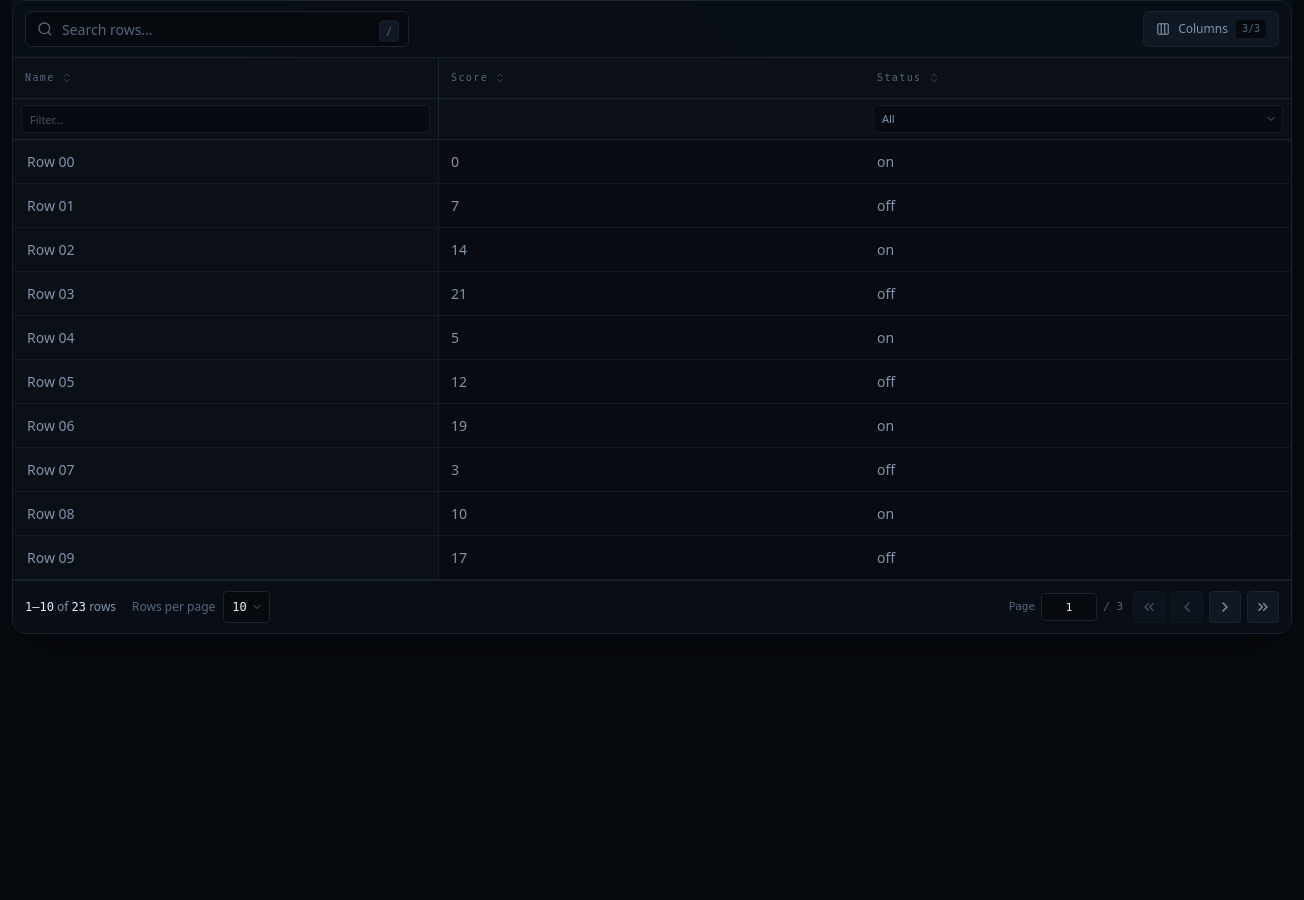
Scenario: DataGrid › clears a text filter from the filter row itself
The image size is (1304, 900).
In the field named "Filter by Name": {"x": 226, "y": 119} [21,105,430,133], type "Row 0"
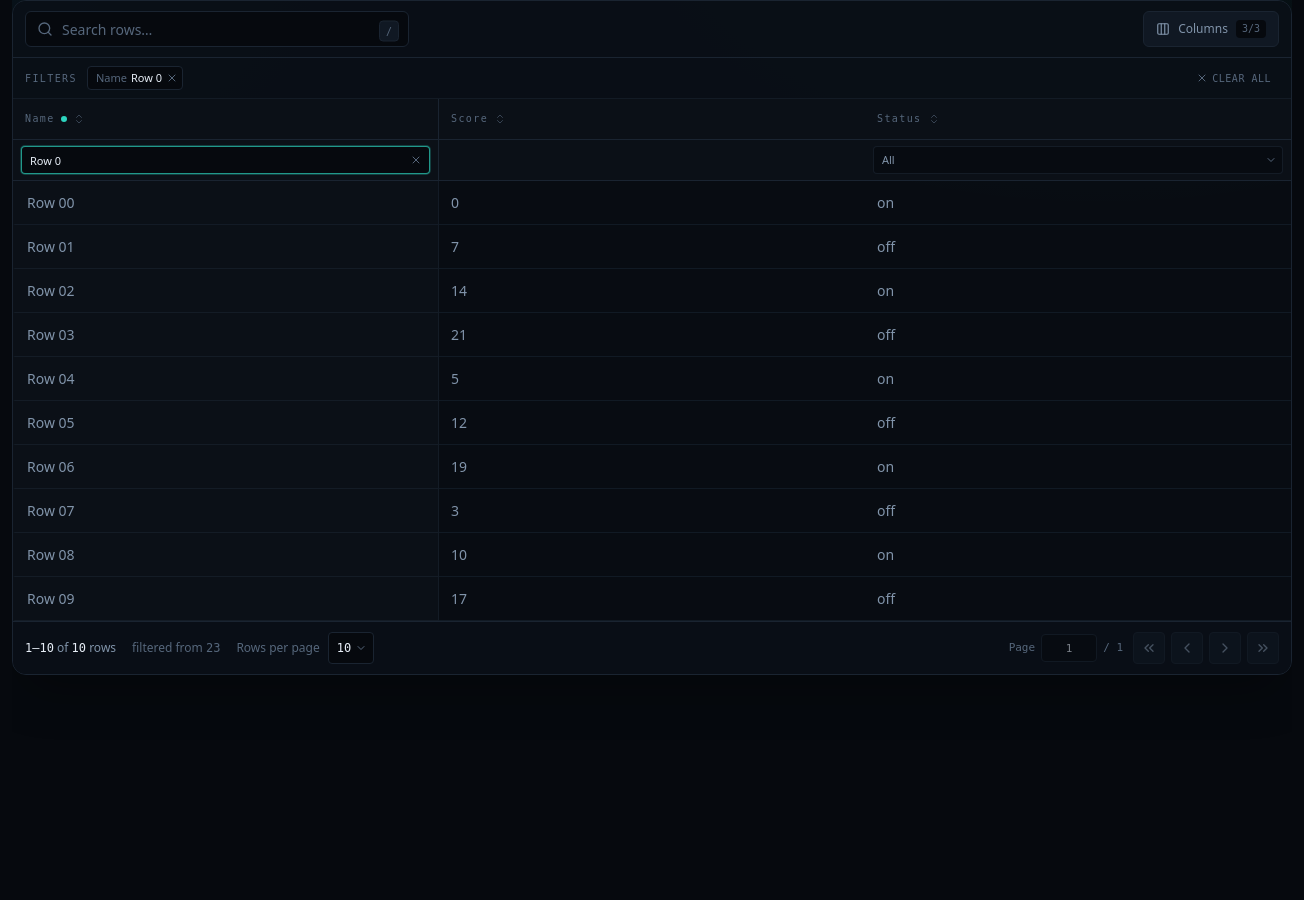
Click the button named "Clear Name filter": {"x": 416, "y": 160} [404,148,428,172]
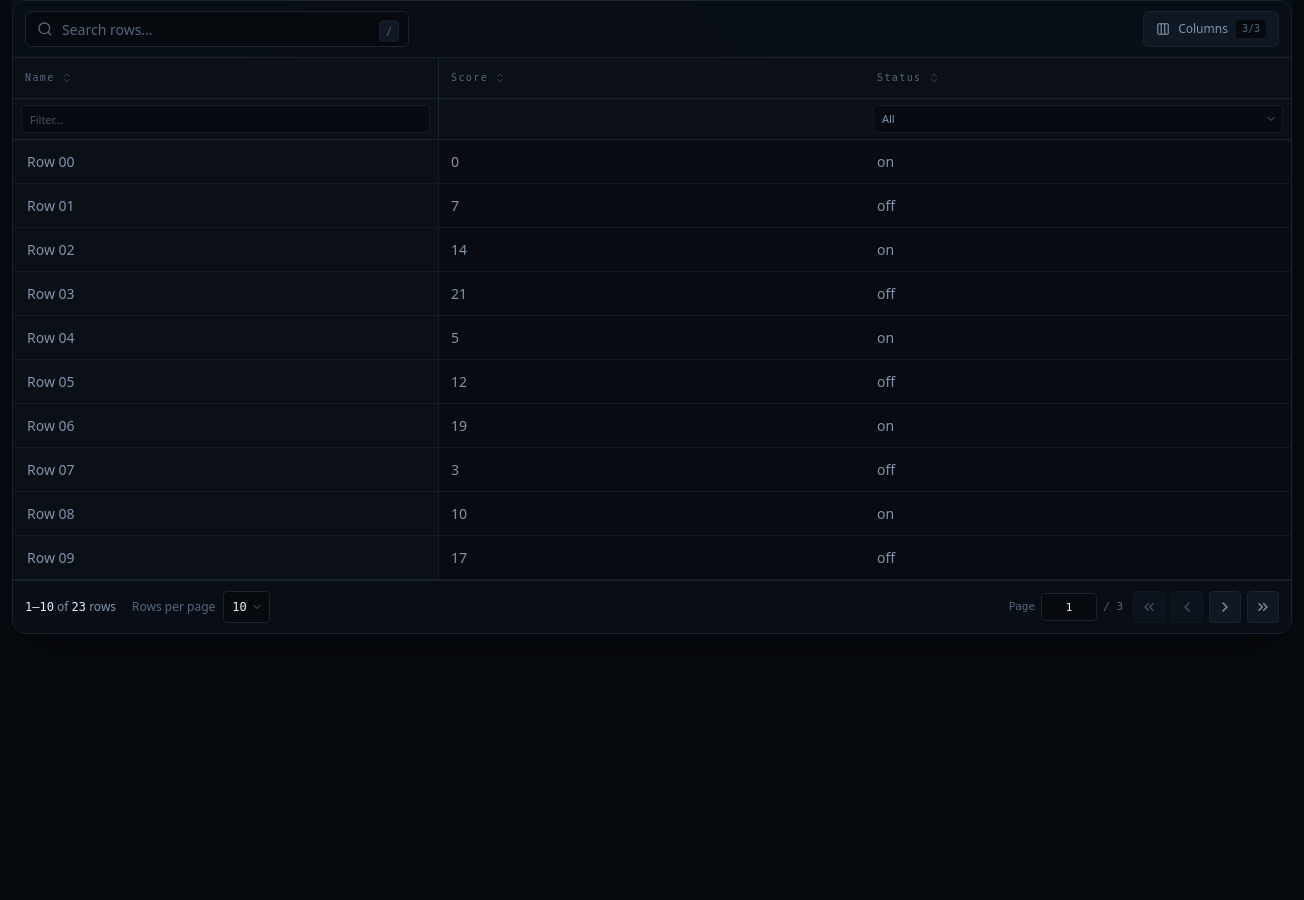
Now the field named "Filter by Name" is empty, box [21,105,430,133]
